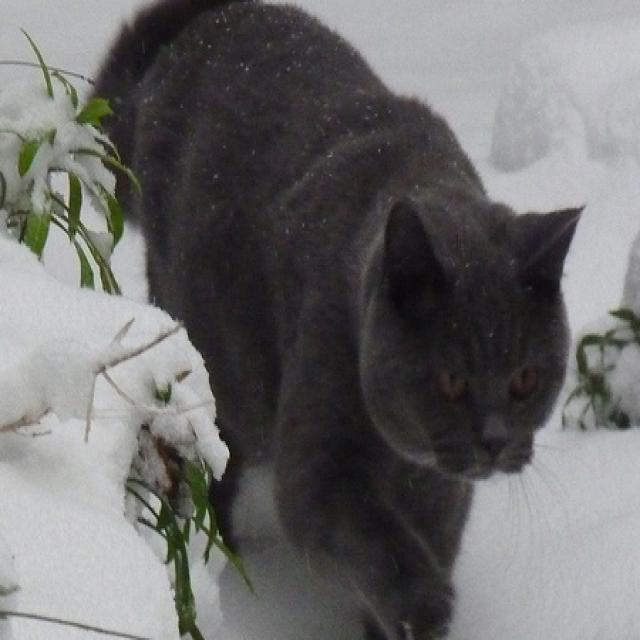British Shorthair: (68, 0, 590, 640)
